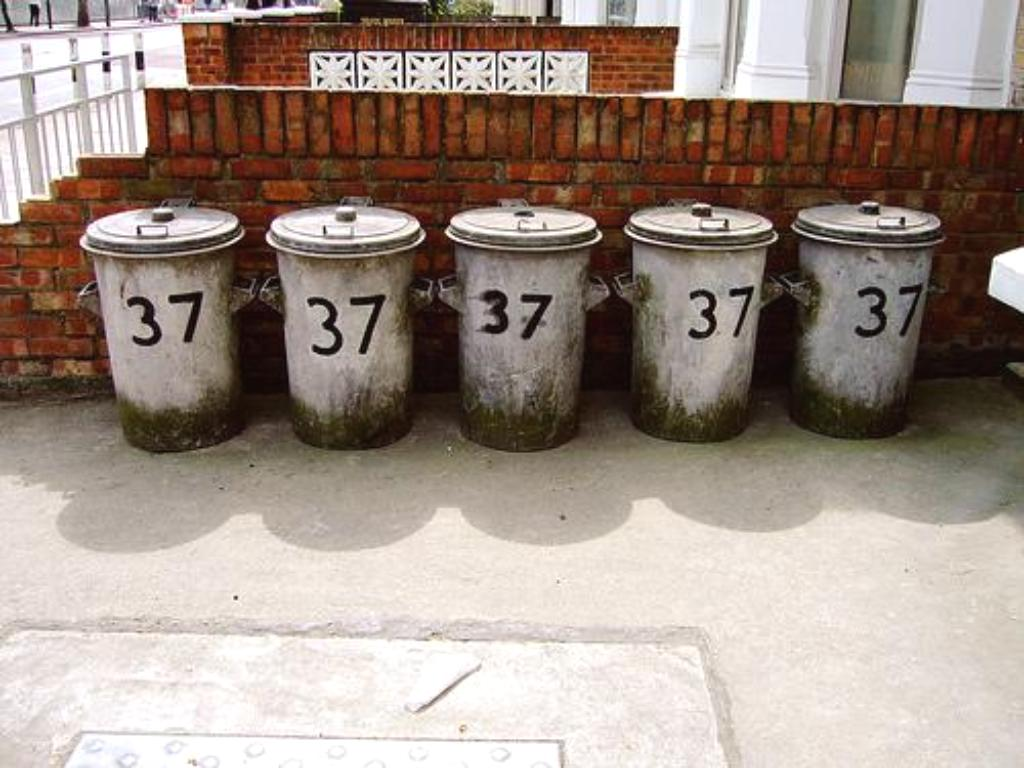dustbin: (82, 200, 937, 441), (255, 183, 436, 459), (618, 188, 784, 455), (85, 197, 250, 464), (443, 196, 610, 453), (795, 193, 943, 445)
